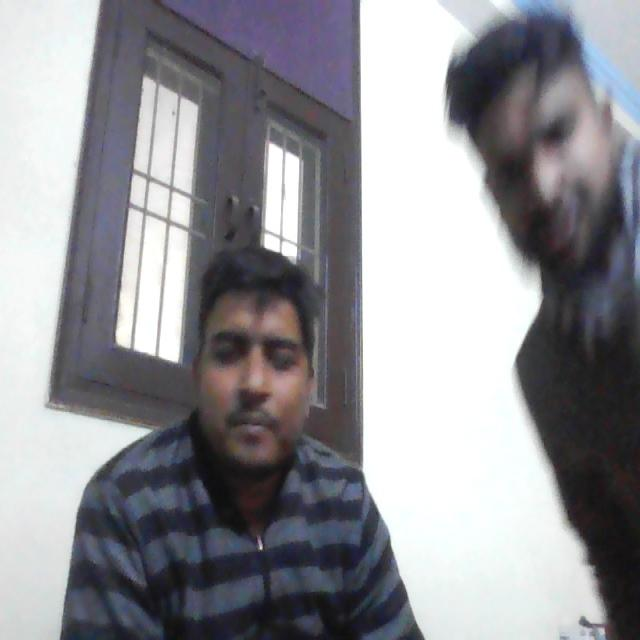real: (485, 8, 624, 271), (187, 230, 325, 490)
